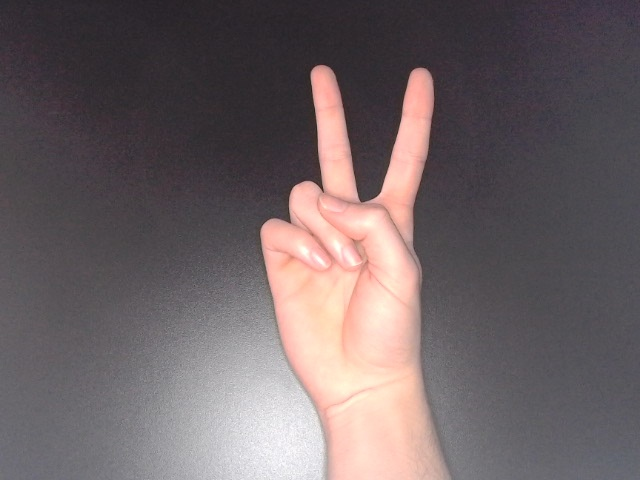v: (255, 60, 444, 435)
